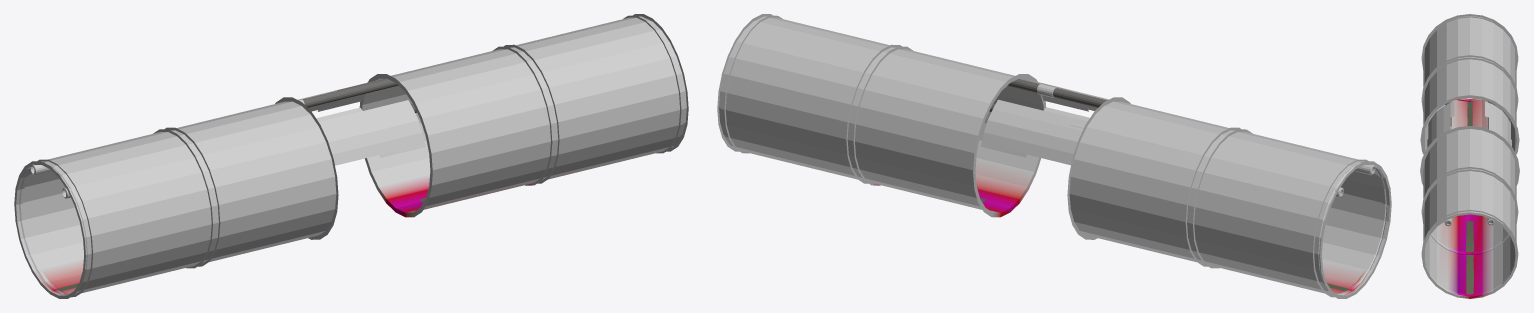
Rendered from AreaJ_Pipe_Inside_B.fbx.
The picture shows the model from 3 angles, left to right: view 1: azimuth 30°, elevation 25°; view 2: azimuth 150°, elevation 25°; view 3: azimuth 270°, elevation 25°; orthographic projection. The views are drawn at different scales.
Visible parts, largest first — view 1: SM_ENV_AMVLLG02_AreaJ_Pipe_Inside_B.mo; view 2: SM_ENV_AMVLLG02_AreaJ_Pipe_Inside_B.mo; view 3: SM_ENV_AMVLLG02_AreaJ_Pipe_Inside_B.mo.
Boxes of the visible parts, x1,y1,x2,y2 form: SM_ENV_AMVLLG02_AreaJ_Pipe_Inside_B.mo: (14, 14, 688, 298); SM_ENV_AMVLLG02_AreaJ_Pipe_Inside_B.mo: (717, 14, 1391, 298); SM_ENV_AMVLLG02_AreaJ_Pipe_Inside_B.mo: (1420, 14, 1519, 298).
Size of the model in its own units: 7894 by 1673 by 1673.
